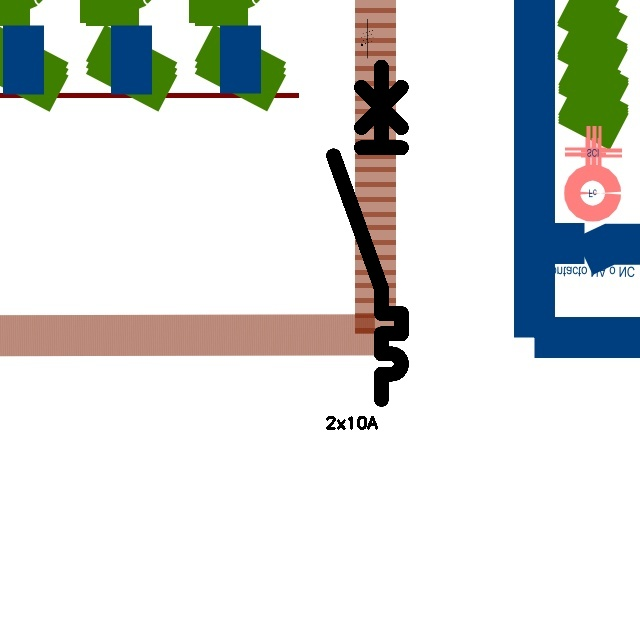interruptor_termomagnetico: (325, 58, 410, 408)
